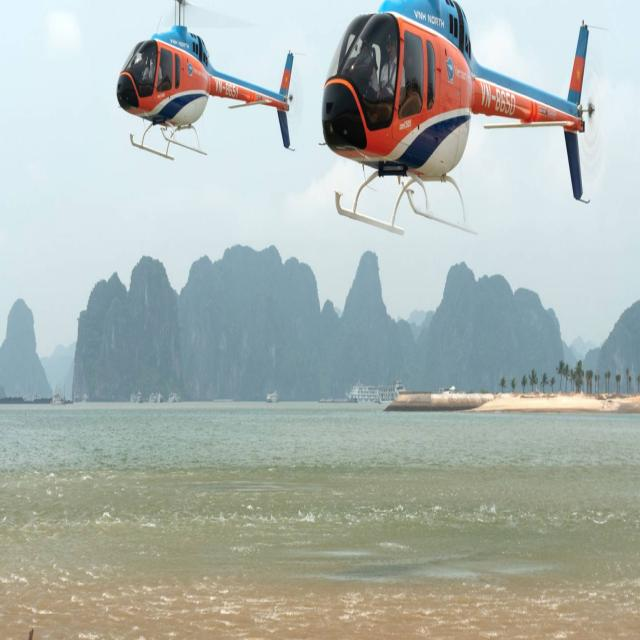helicopter: (312, 1, 604, 240), (94, 1, 298, 191)
